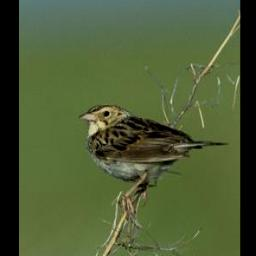Sparrow: (71, 98, 232, 219)
